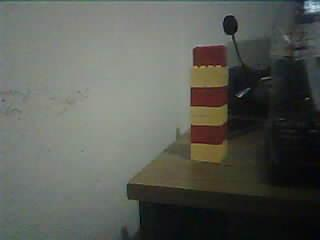lego: (188, 44, 230, 162)
